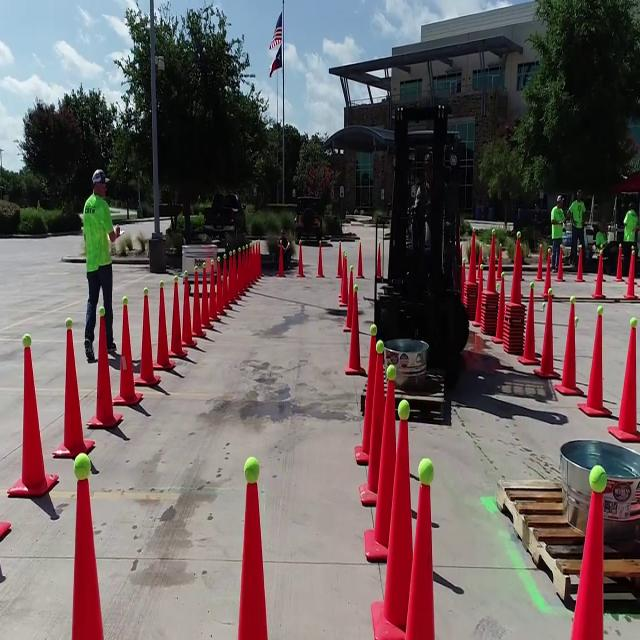Chariot elevateur: (365, 126, 479, 376)
